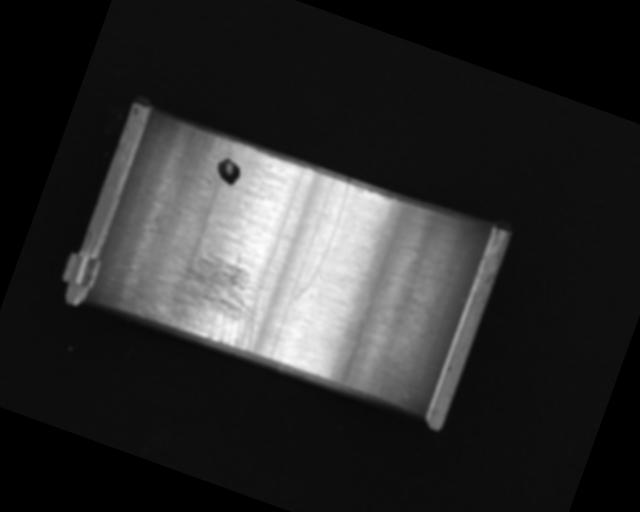blot: (210, 154, 246, 189)
nick: (291, 174, 354, 307)
scratch: (133, 226, 281, 356)
